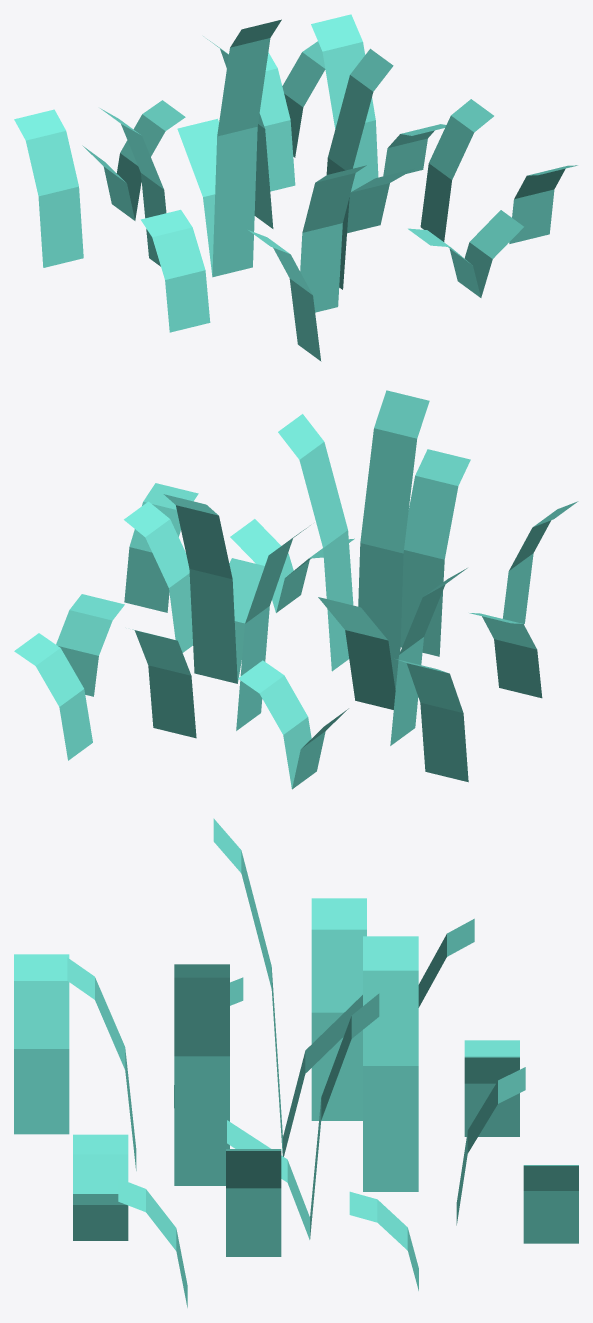
The model's file is grass_large.gltf.
3 views of the same model, one above another, from view 1: azimuth 30°, elevation 25°; view 2: azimuth 150°, elevation 25°; view 3: azimuth 270°, elevation 25° (orthographic). The views are drawn at different scales.
Parts seen in each view (by area): view 1: grass_large; view 2: grass_large; view 3: grass_large.
Boxes of the visible parts, <box> form: grass_large: <box>14,14,577,361</box>; grass_large: <box>14,390,578,789</box>; grass_large: <box>14,818,578,1307</box>.
Size of the model in its own units: 0.409 by 0.254 by 0.4079.
